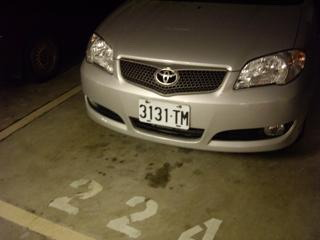plate: (135, 95, 190, 132)
